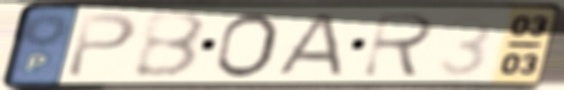3: (436, 10, 499, 79)
A: (267, 12, 347, 79)
B: (129, 10, 211, 80)
O: (210, 10, 282, 80)
P: (62, 11, 141, 81)
R: (357, 10, 439, 80)
